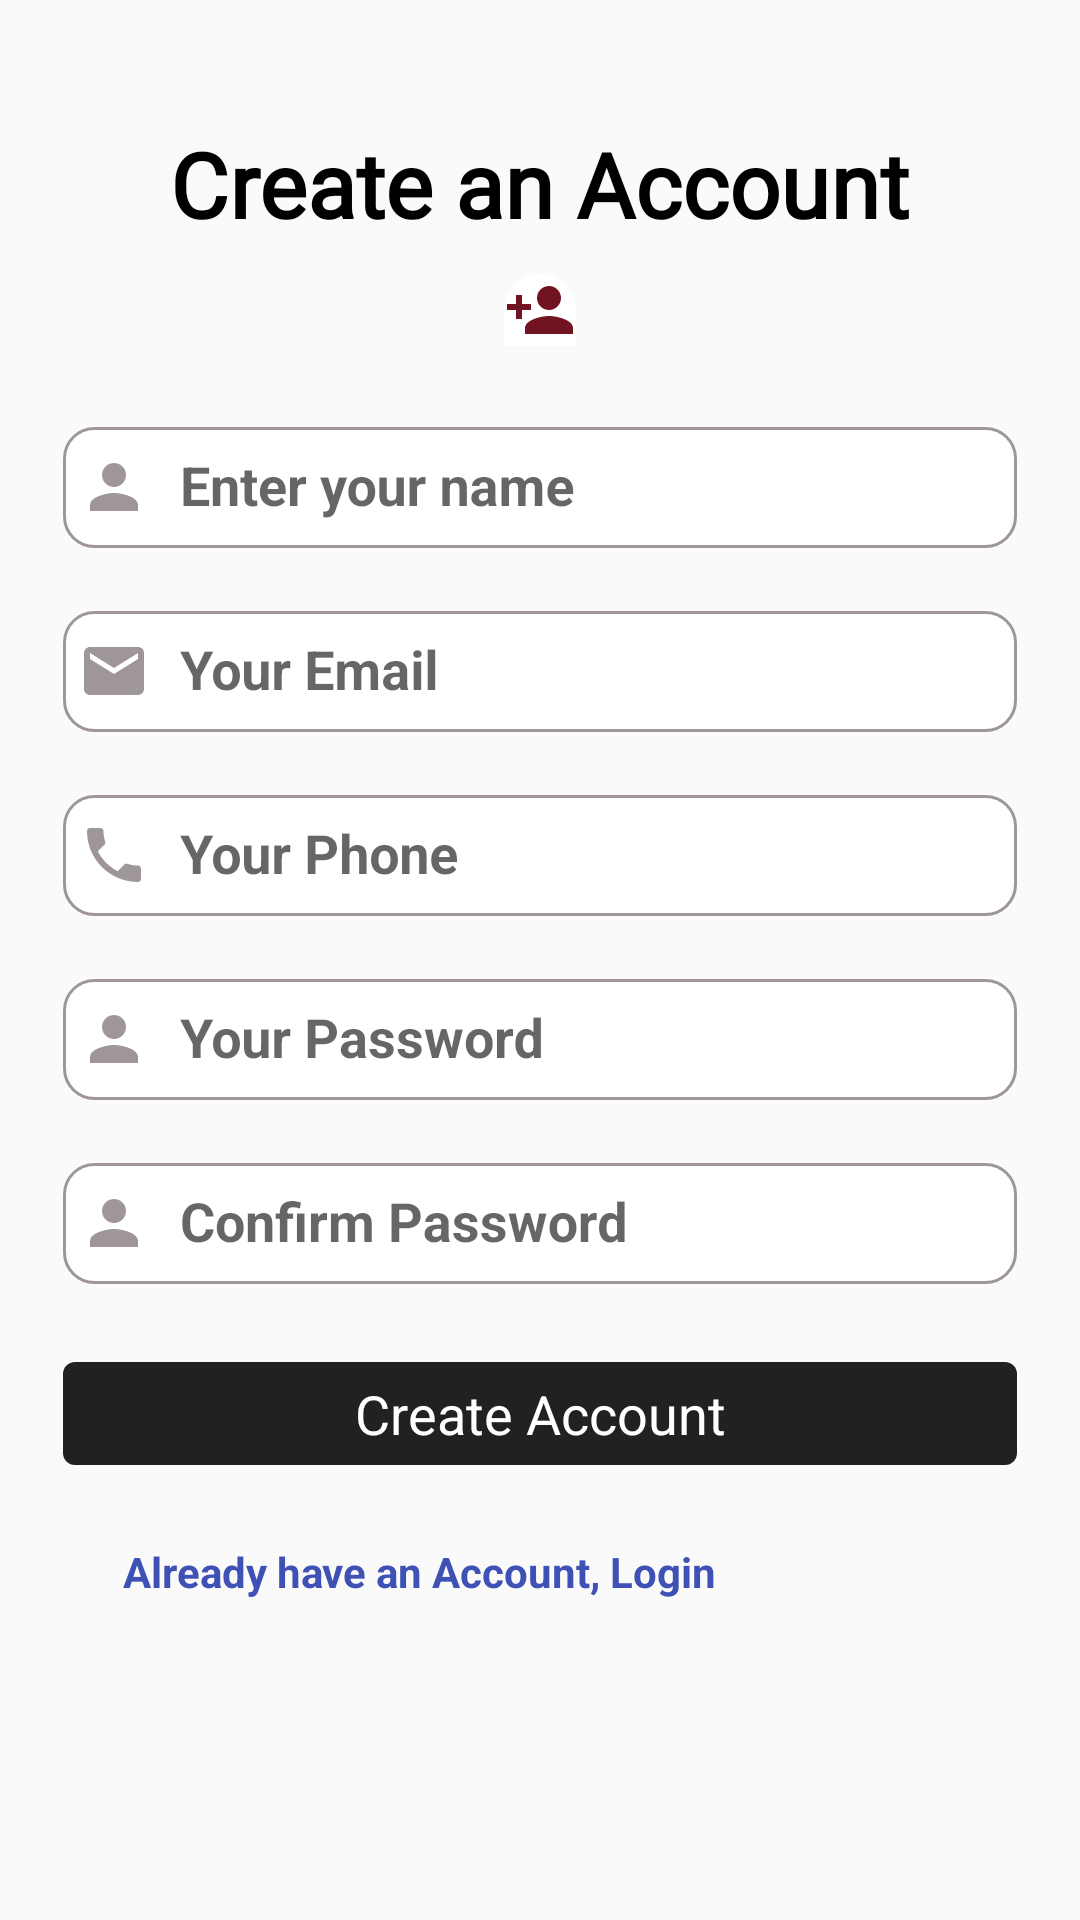

Screen size 1080 × 1920. Icon name, then its center in pixels as point (x, y):
person add: point (540, 310)
